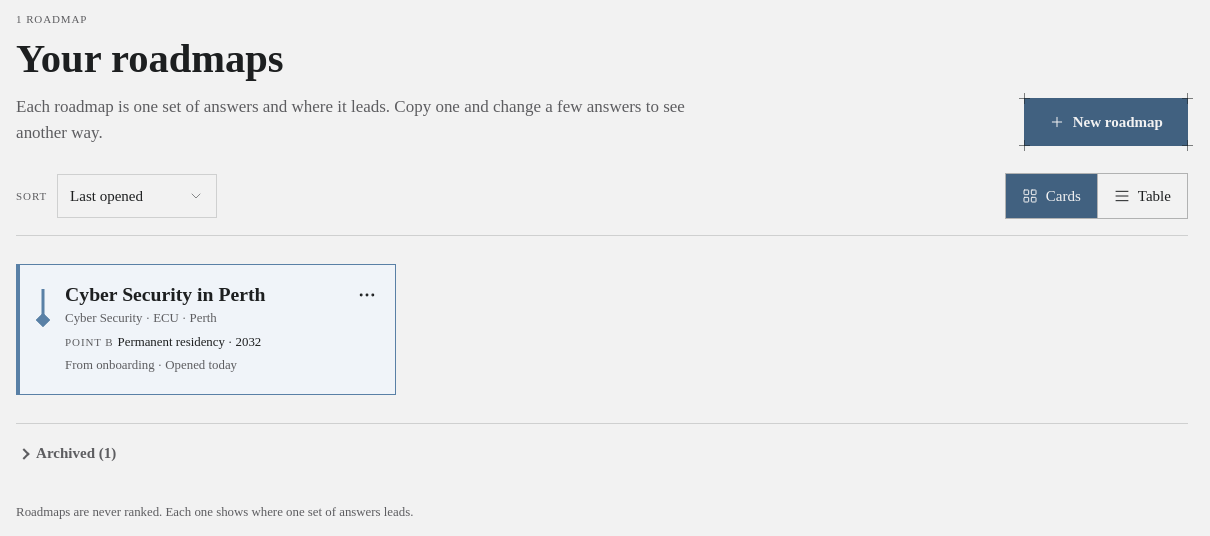
Scenario: the … menu › has no Archive and no Delete while one roadmap is out of the archive
The width and height of the screenshot is (1210, 536).
Click the button named "More for Cyber Security in Perth" at (367, 294), box [345,272,389,316]
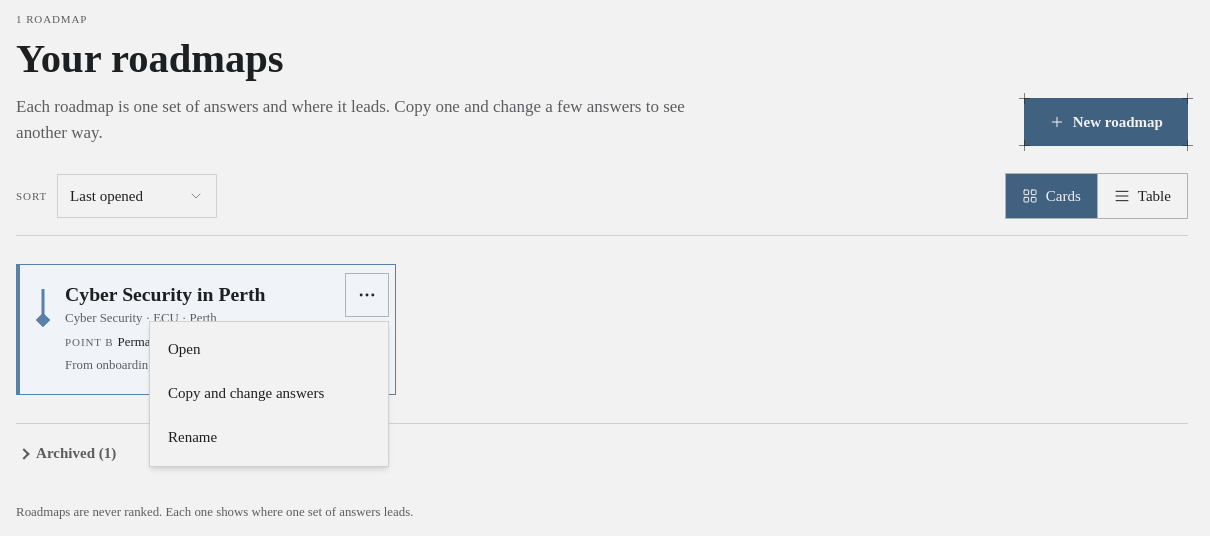
Now the menu items read "Open", "Copy and change answers", "Rename", in this order, box [156,328,382,372]; [168,385,324,401]; [156,416,382,460]
